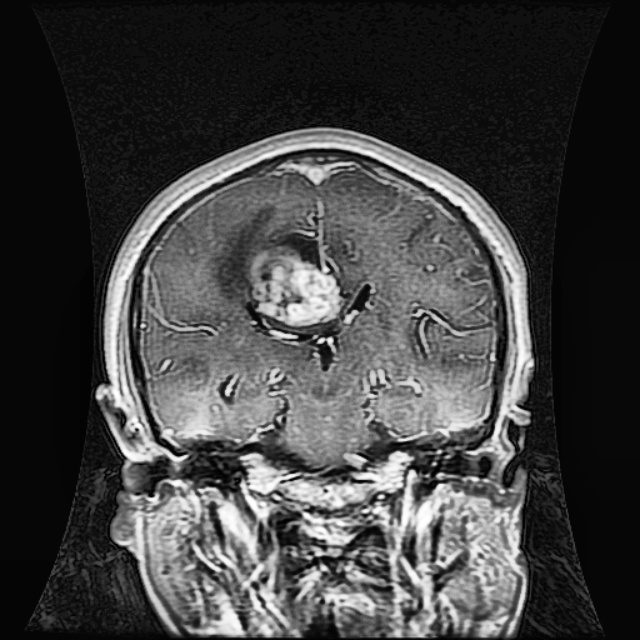Meningioma: (237, 233, 344, 369)
